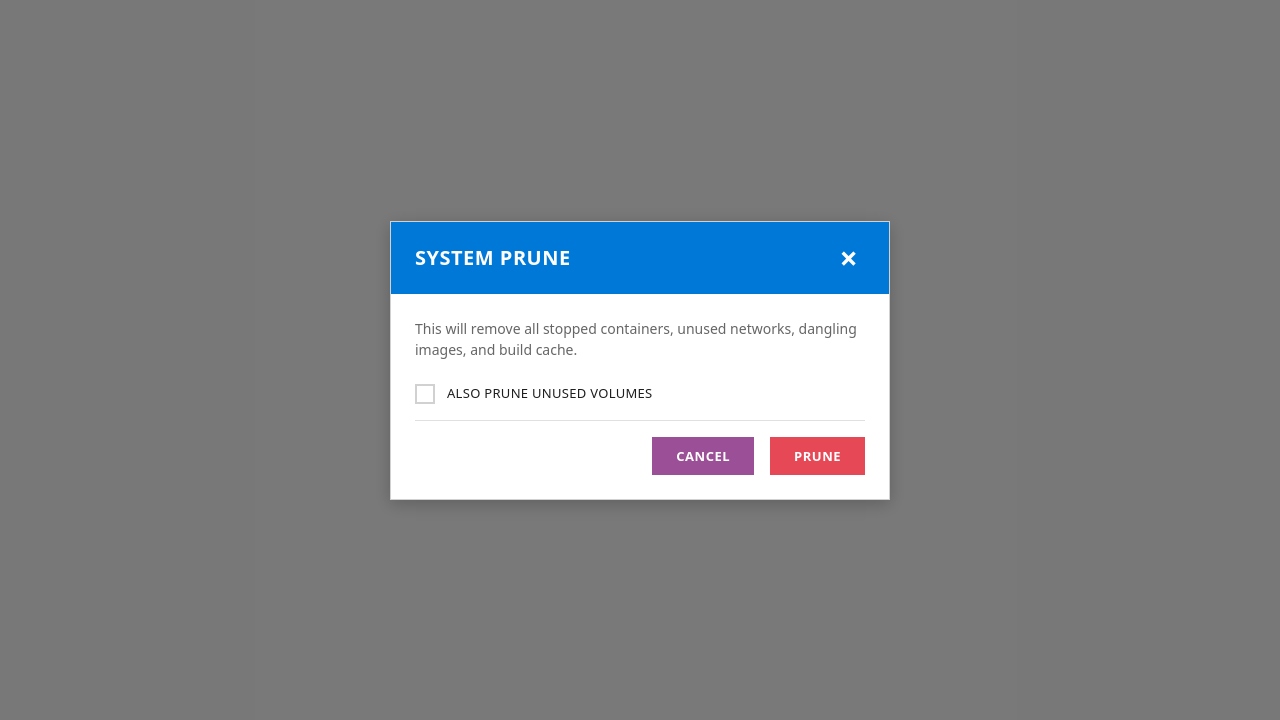
SystemPrune › shows volume warning when checkbox is checked
Click the checkbox labelled "Also prune unused volumes" at (425, 394), box [415,384,435,404]
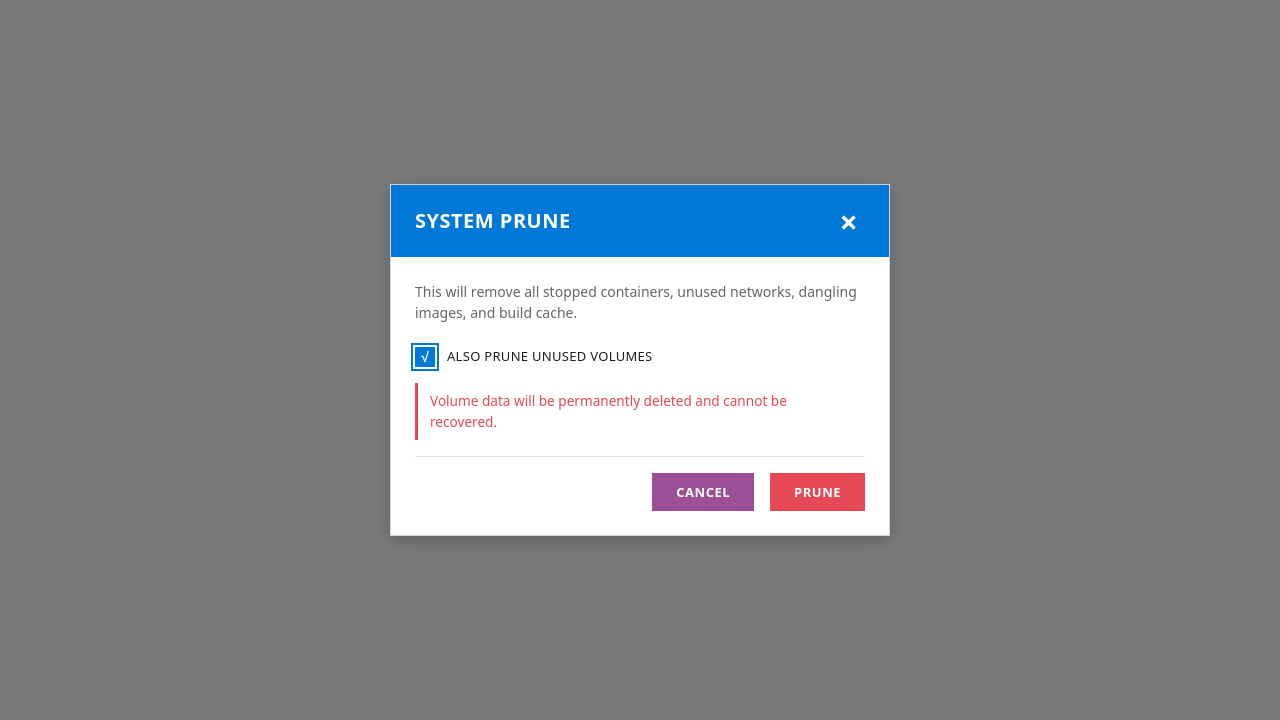
Expected: the text "permanently deleted" is shown, [430,391,787,430]
